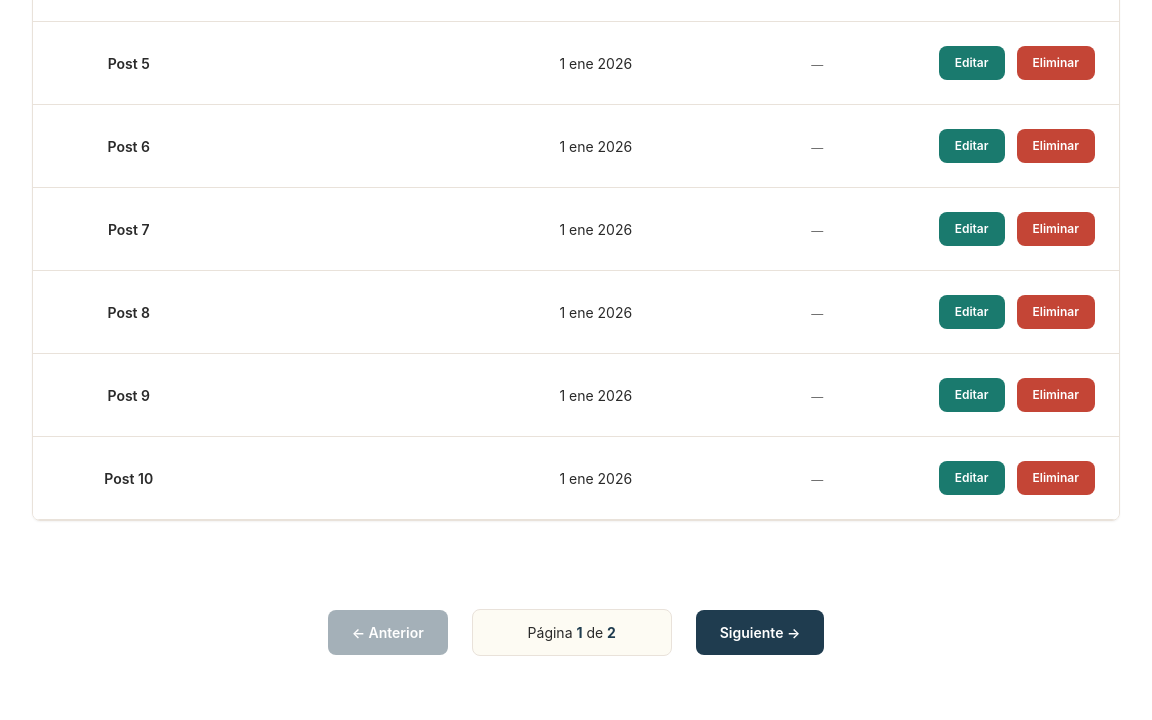
Test: search › resets to page 1 when searching
(page scrolled)
Note: Go to page 2
Click the button "Siguiente →" at {"x": 760, "y": 633}, box [696,610,824,655]
(page scrolled)
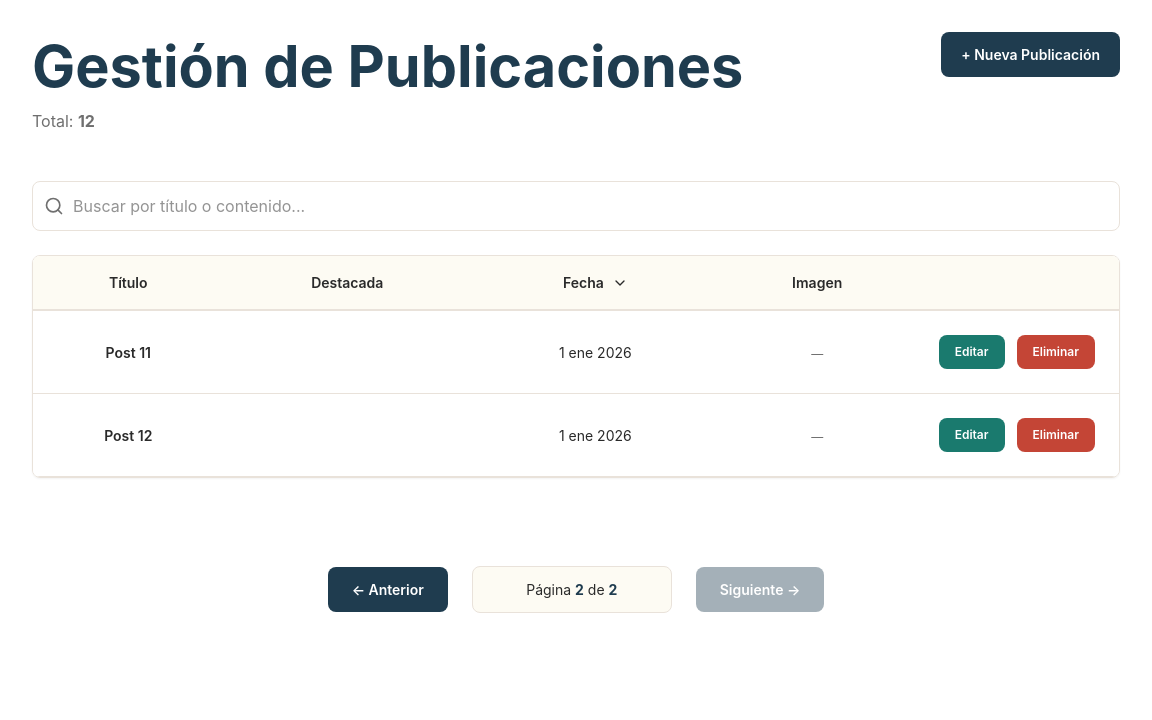
Type "Post 1" into the field with placeholder "Buscar por título o contenido..." at {"x": 576, "y": 206}, box [32,181,1120,231]
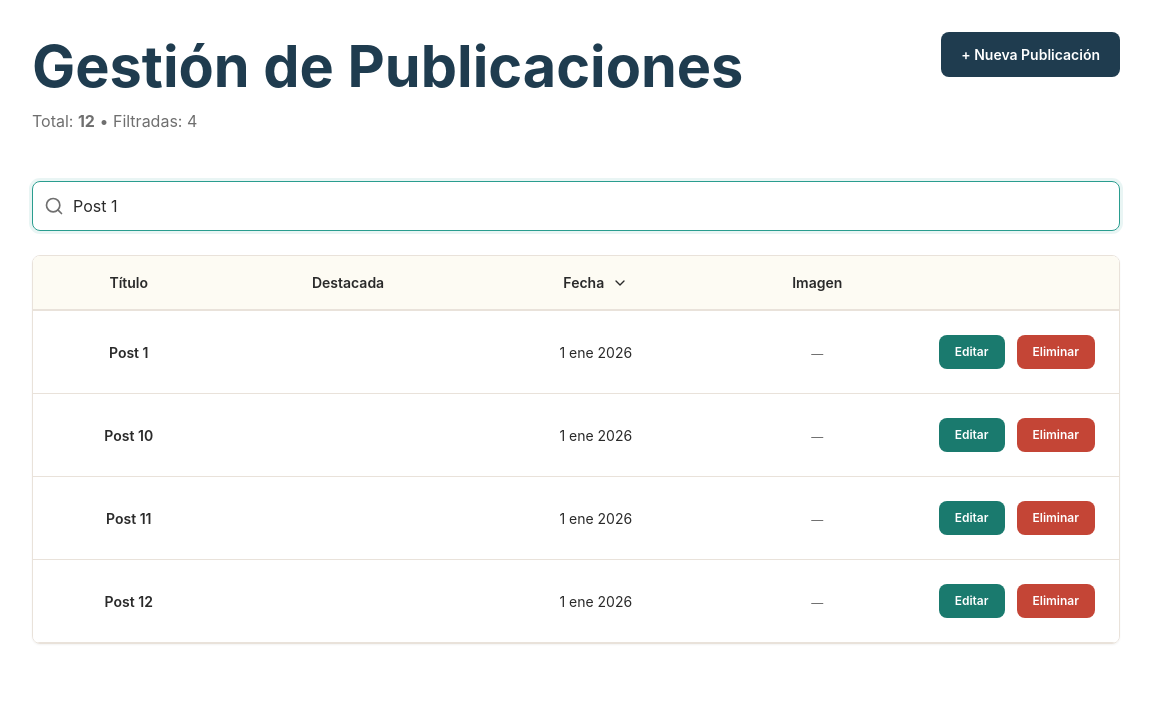
Result: the text "Post 1" is shown at [33,310,224,394]
